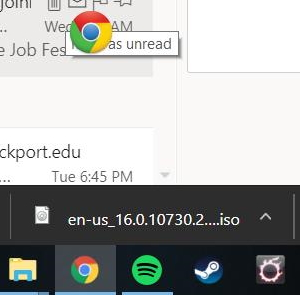chrome: (70, 10, 113, 53), (71, 255, 99, 284)
